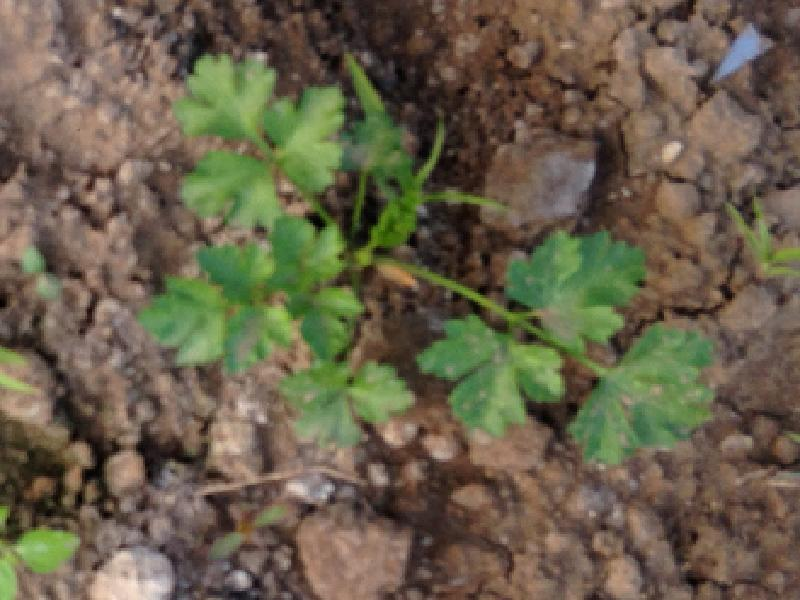radish: (0, 81, 771, 542)
